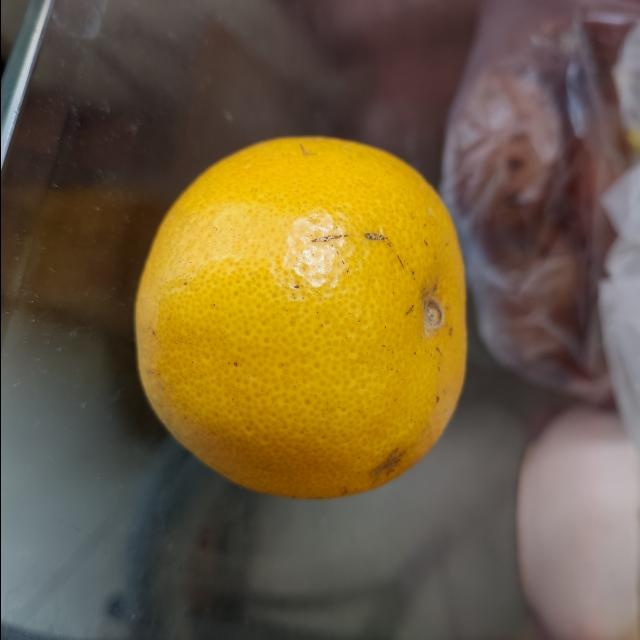agrume: (132, 130, 468, 502)
